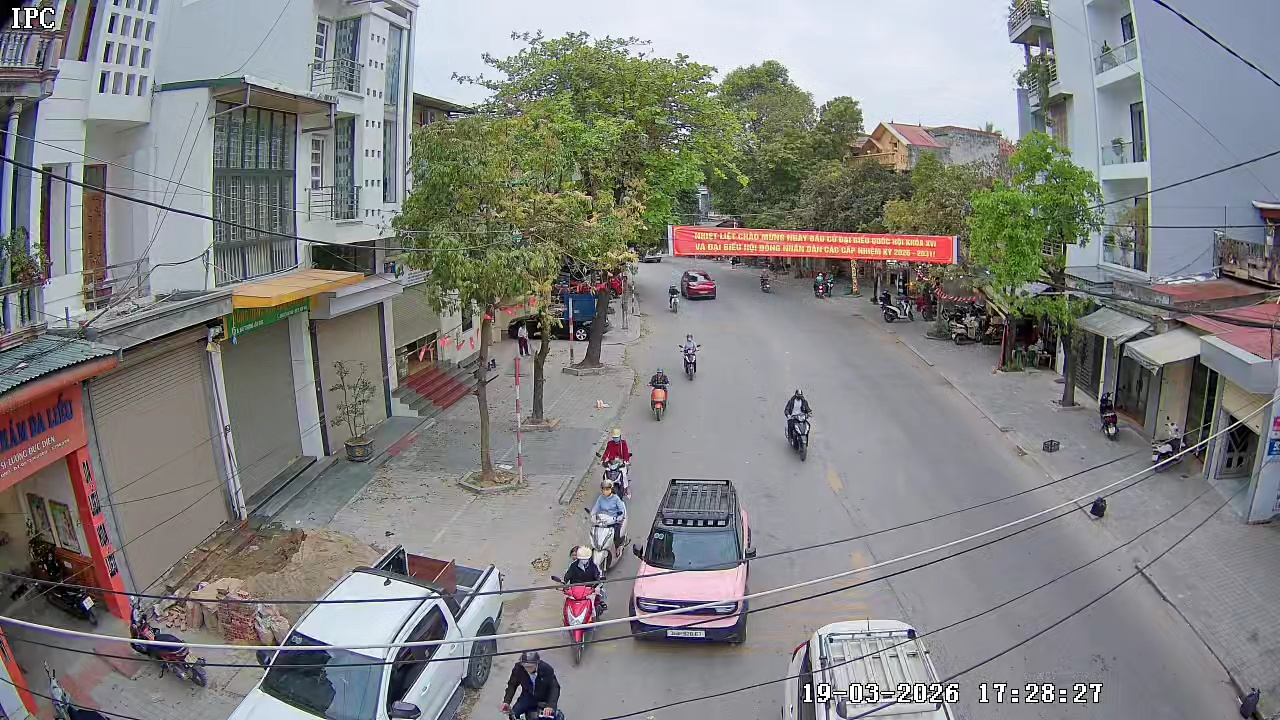car: (628, 475, 758, 647), (683, 270, 718, 301)
motorbike: (555, 553, 608, 665), (500, 646, 566, 719), (584, 481, 629, 576), (595, 427, 634, 498), (783, 387, 813, 463), (648, 366, 670, 422), (680, 334, 699, 382), (1087, 493, 1108, 521), (667, 281, 682, 311), (814, 275, 830, 299)
